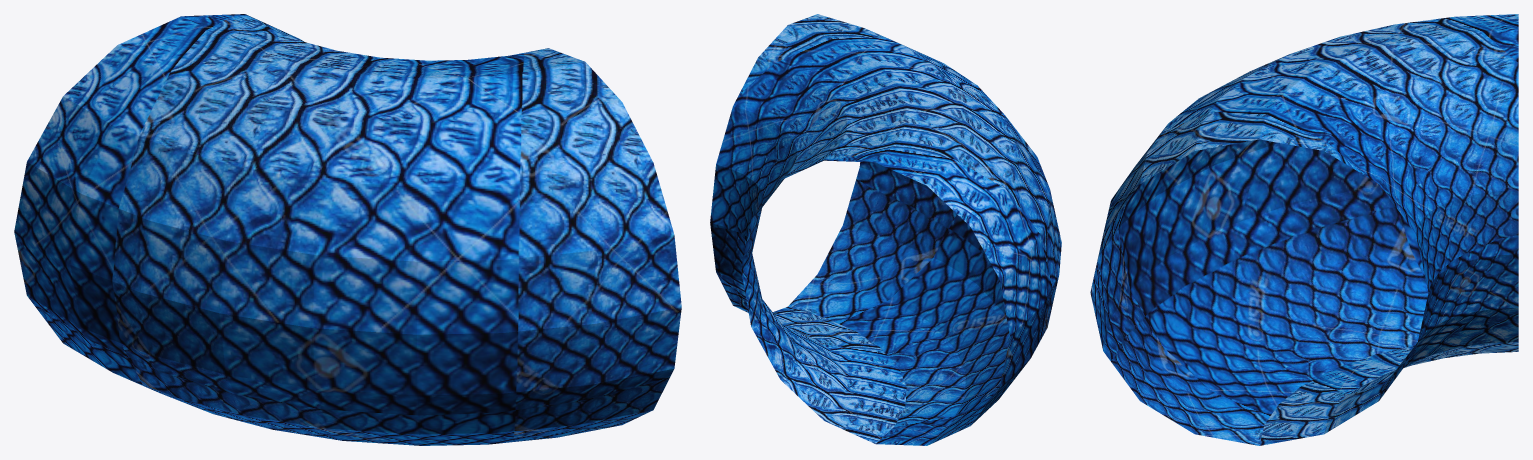
The model's file is SnakeBodyPartElbowTR.obj.
3 views of the same model, side by side, from view 1: azimuth 30°, elevation 25°; view 2: azimuth 150°, elevation 25°; view 3: azimuth 270°, elevation 25° (orthographic). The views are drawn at different scales.
Visible parts, largest first — view 1: SnakeBodyPart; view 2: SnakeBodyPart; view 3: SnakeBodyPart.
Boxes of the visible parts, box(x1,y1,x2,y2) form: SnakeBodyPart: box(14, 14, 681, 445); SnakeBodyPart: box(710, 14, 1061, 445); SnakeBodyPart: box(1090, 14, 1518, 445).
Bounding box in the file's own units: 0.8243 × 0.65 × 0.8229.
Materials: 1 (1 with a texture image).
